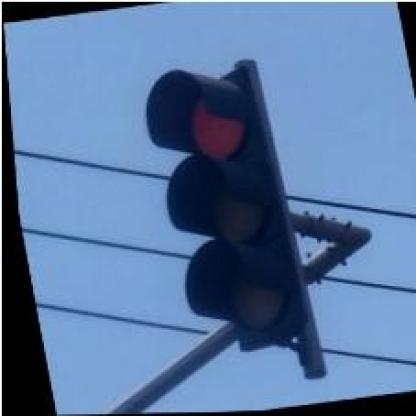red: (134, 58, 306, 356)
